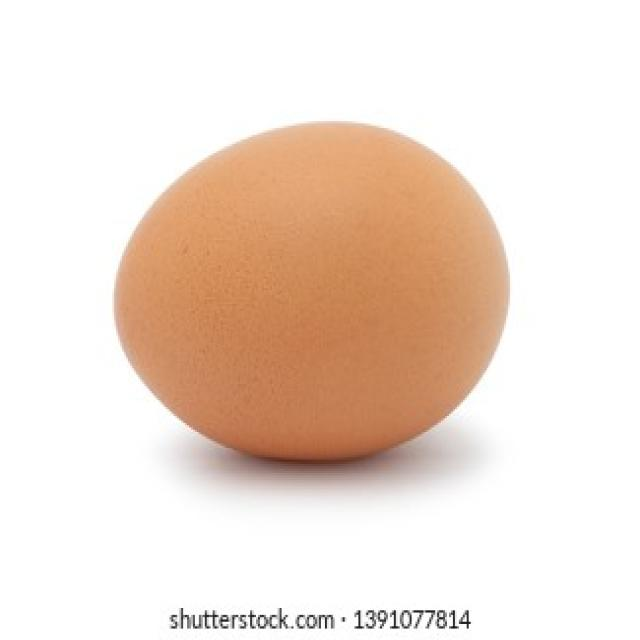Brown Egg: (100, 111, 524, 482)
